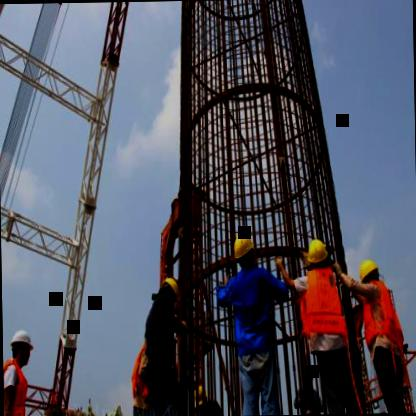helmet: (228, 228, 258, 272), (9, 324, 36, 370), (304, 235, 332, 275), (154, 274, 180, 306), (358, 258, 380, 292)
